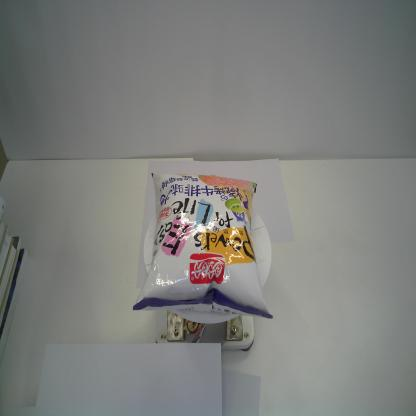Puffed Food: (132, 172, 274, 319)
